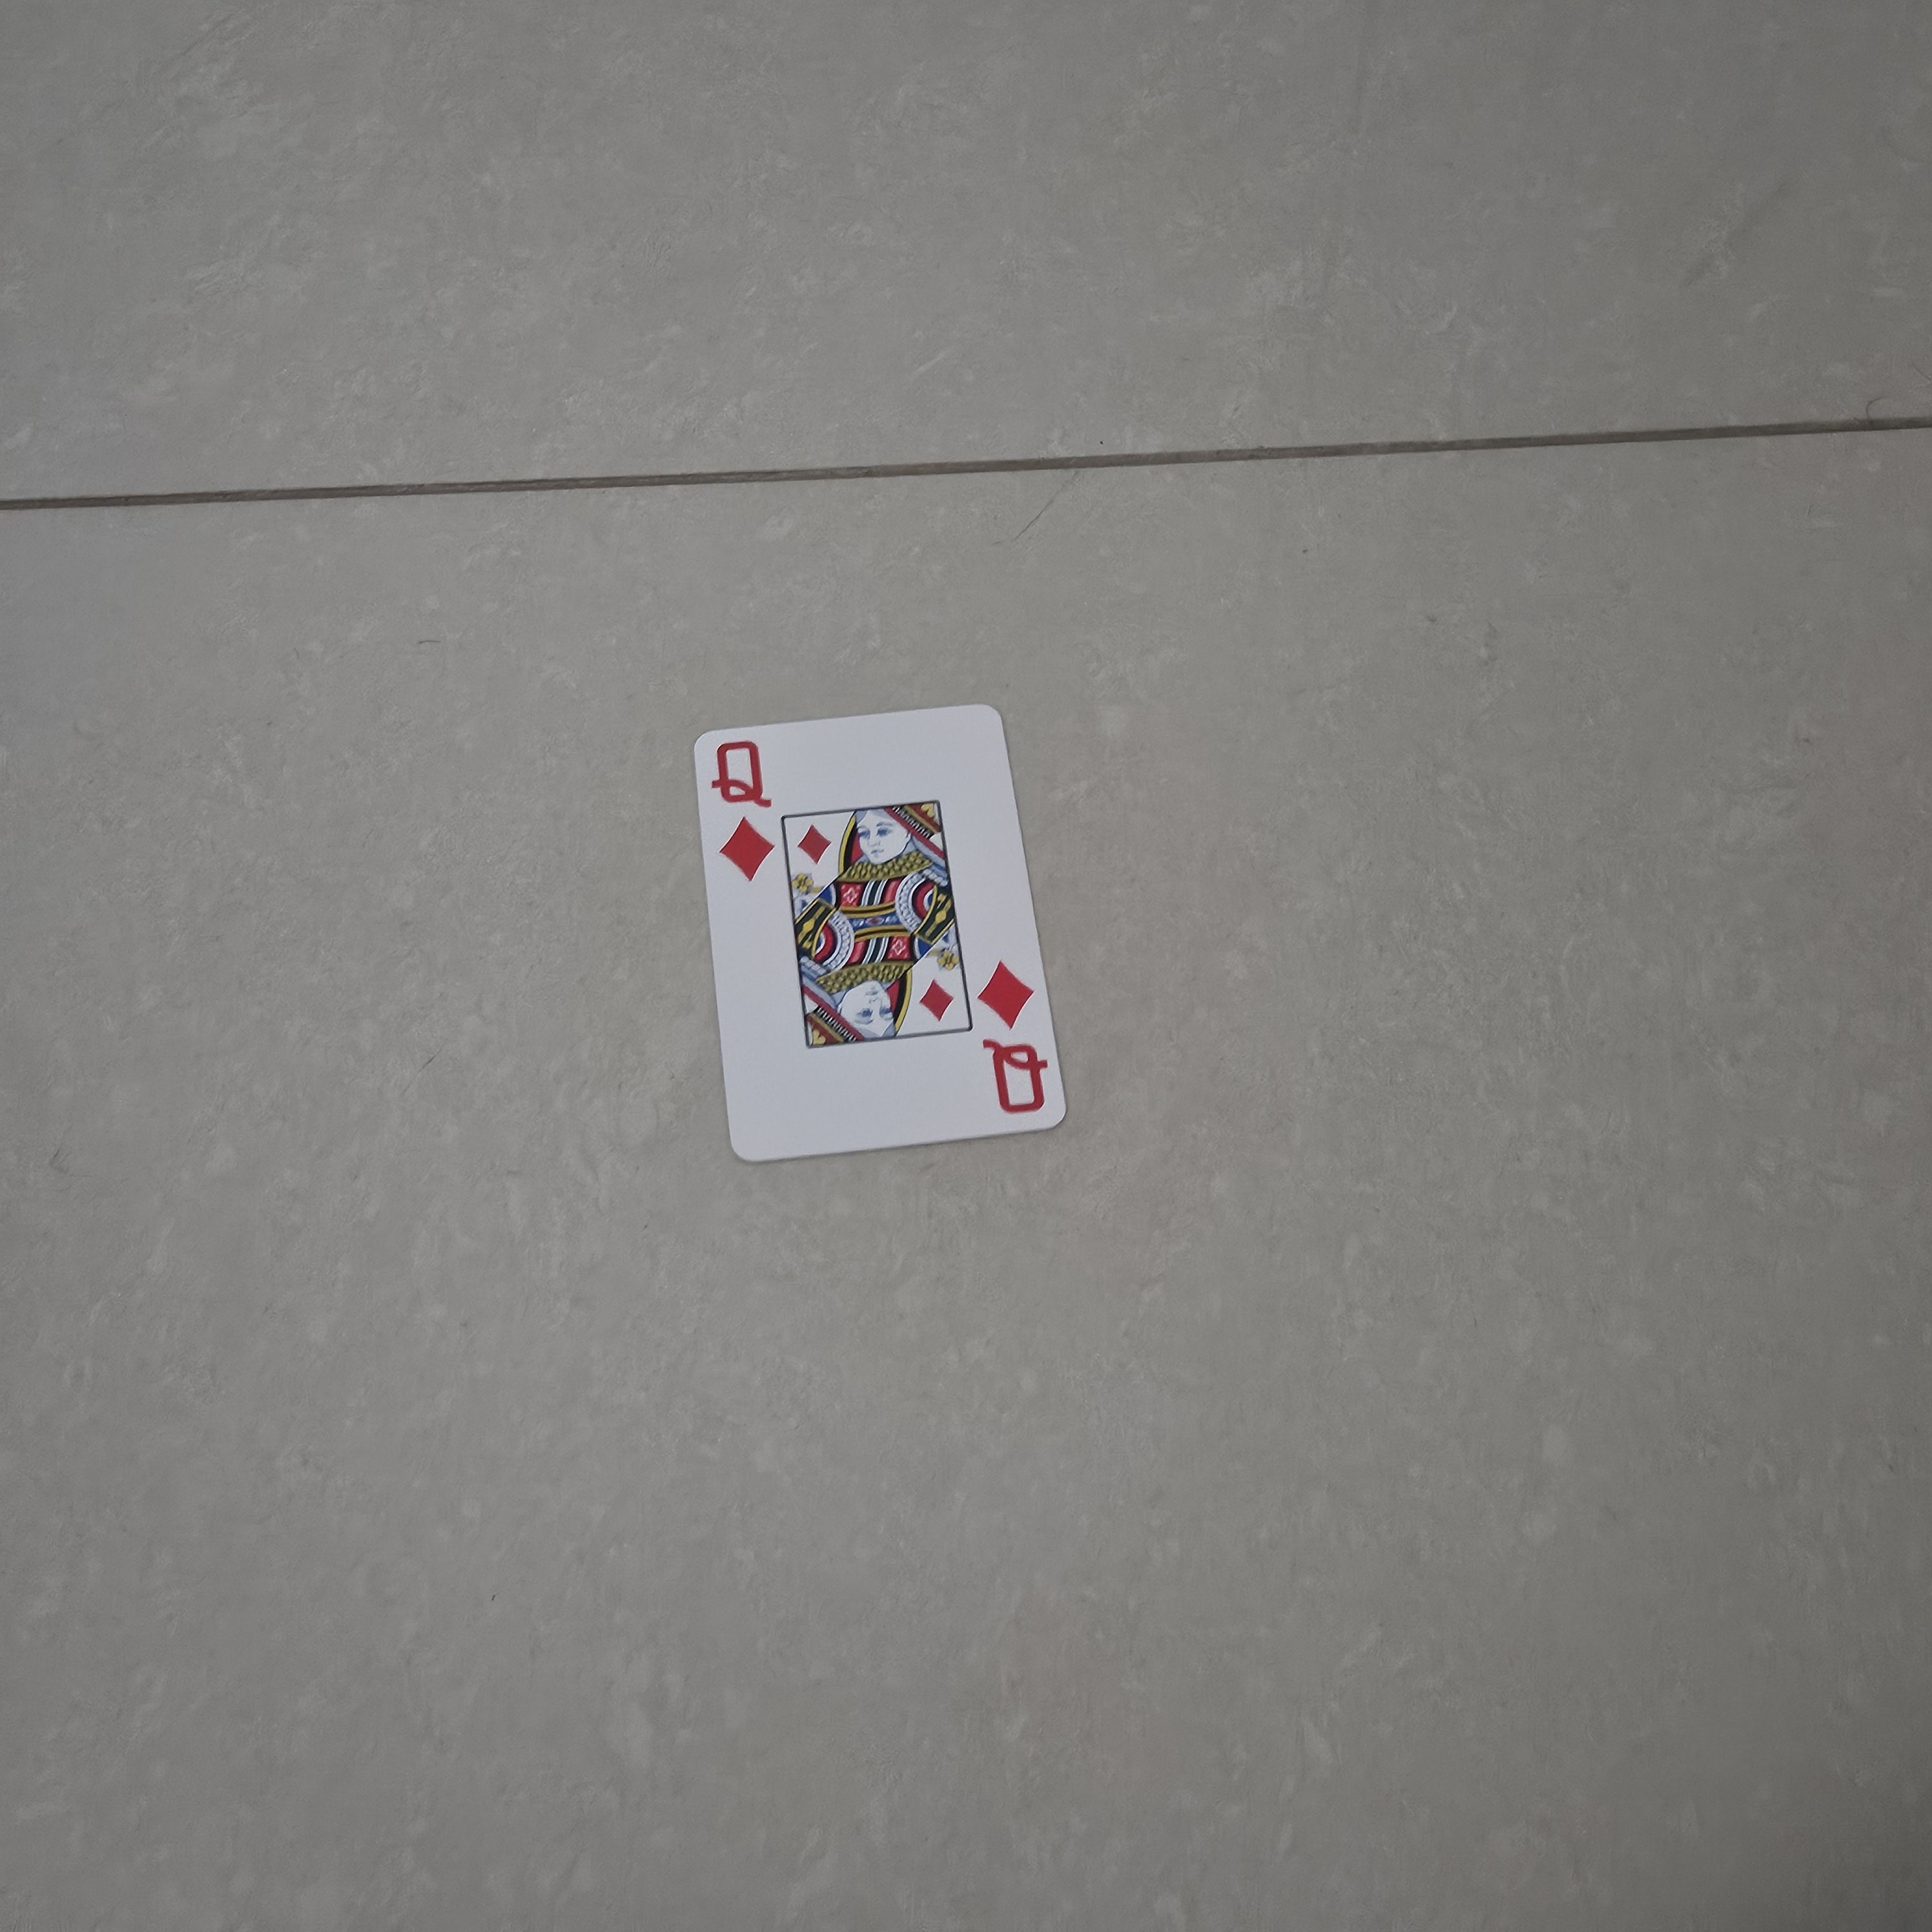QO: (970, 950, 1065, 1134), (694, 729, 791, 895)
